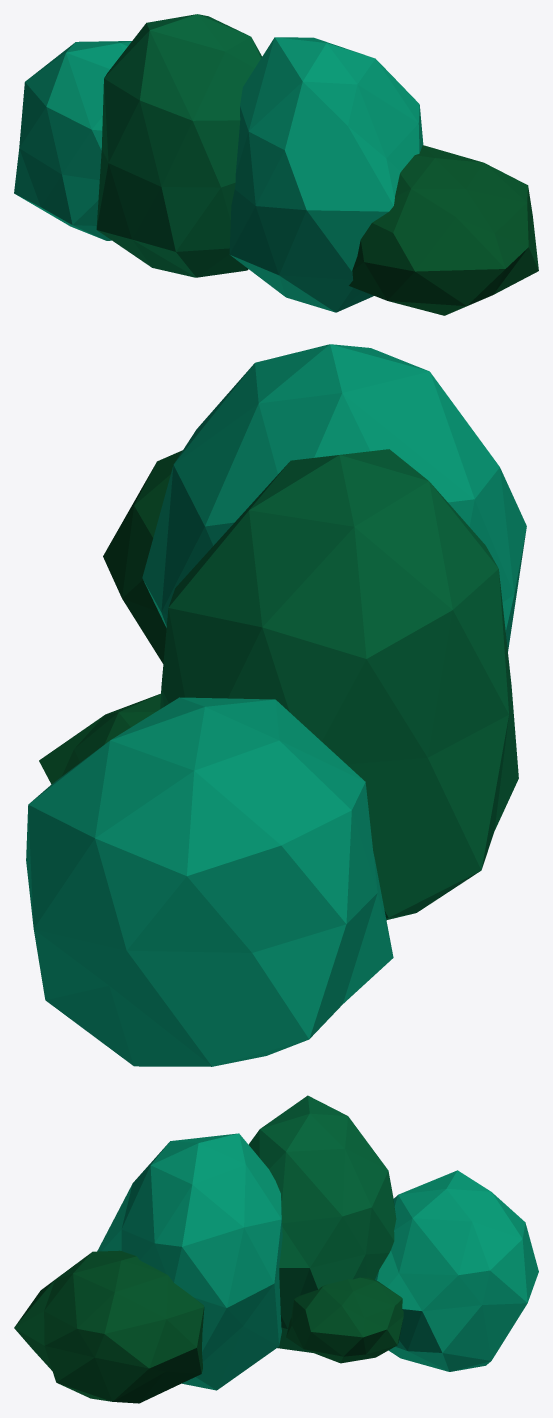
3 views of the same model, one above another, from view 1: azimuth 30°, elevation 25°; view 2: azimuth 150°, elevation 25°; view 3: azimuth 270°, elevation 25° (orthographic). The views are drawn at different scales.
Parts seen in each view (by area): view 1: Icosphere.078, Icosphere.081, Icosphere.079, Icosphere.080; view 2: Icosphere.080, Icosphere.081, Icosphere.078, Icosphere.079, Icosphere.082; view 3: Icosphere.078, Icosphere.080, Icosphere.079, Icosphere.081, Icosphere.082.
Part boxes in pixels (box(x1,y1,x2,y2)): Icosphere.078: box(229, 37, 423, 312); Icosphere.081: box(96, 14, 262, 277); Icosphere.079: box(349, 145, 538, 315); Icosphere.080: box(14, 41, 131, 240); Icosphere.080: box(26, 697, 393, 1066); Icosphere.081: box(160, 449, 518, 920); Icosphere.078: box(142, 344, 526, 650); Icosphere.079: box(103, 450, 182, 663); Icosphere.082: box(39, 693, 160, 784); Icosphere.078: box(97, 1133, 282, 1390); Icosphere.080: box(375, 1170, 538, 1371); Icosphere.079: box(14, 1250, 204, 1403); Icosphere.081: box(248, 1095, 396, 1352); Icosphere.082: box(286, 1277, 403, 1363).
Bounding box in the file's own units: 143 × 121 × 231.
